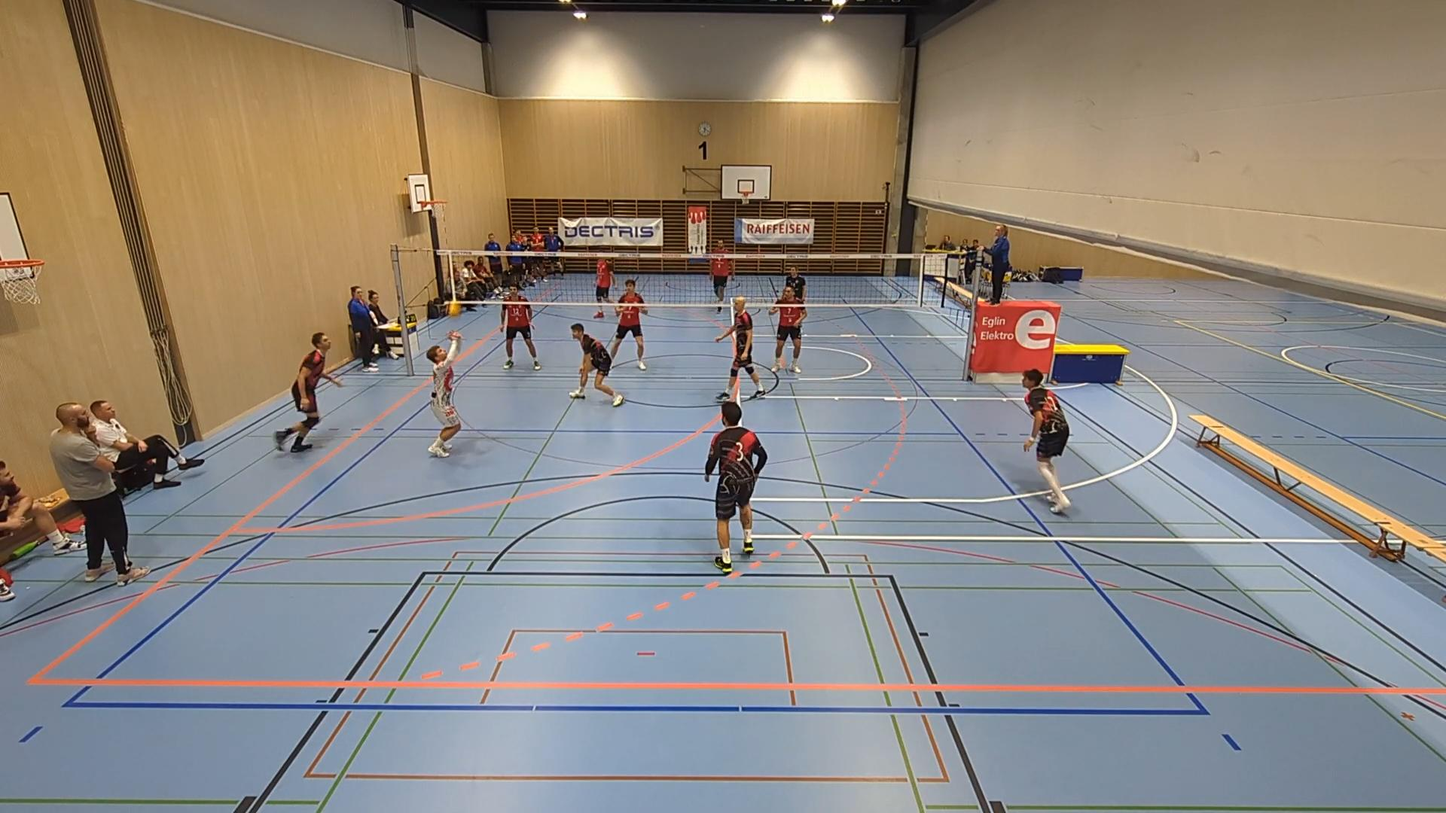alzata: (425, 325, 463, 457)
